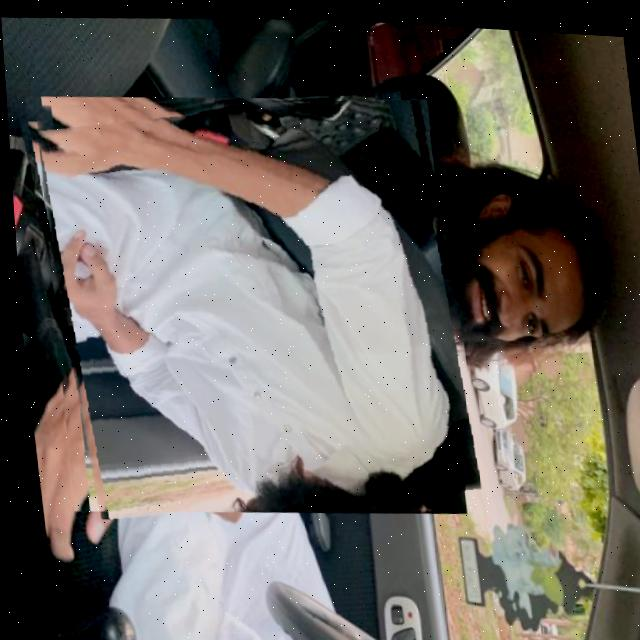no-seatbelt: (23, 74, 479, 529)
